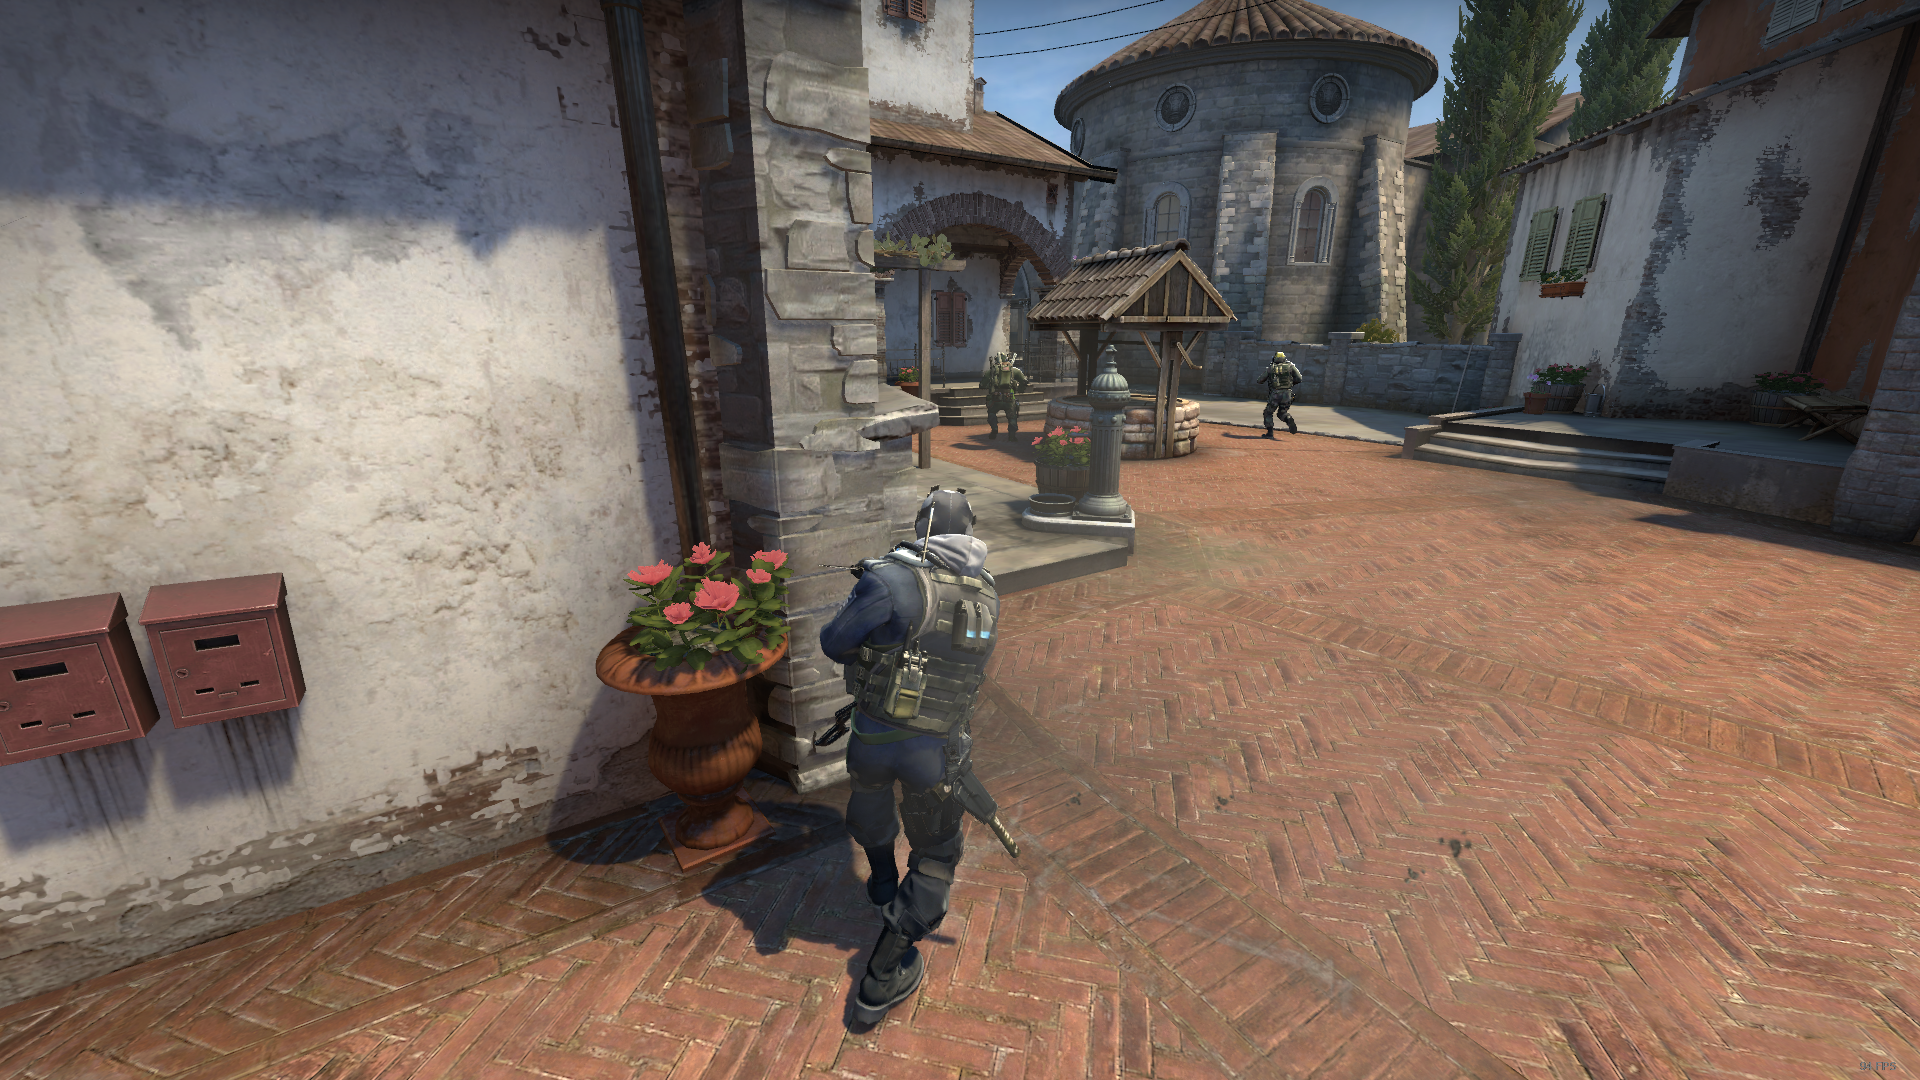ct: (800, 485, 1025, 1047)
